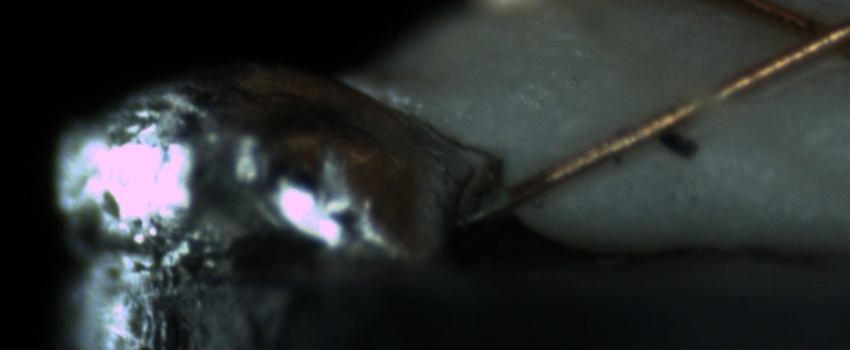CL: (769, 2, 849, 69)
